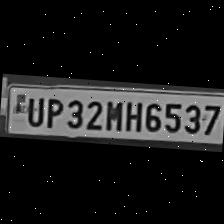2: (82, 94, 104, 129)
3: (180, 98, 202, 133), (62, 94, 84, 128)
5: (160, 96, 182, 132)
6: (140, 96, 162, 131)
7: (199, 100, 221, 134)
H: (121, 96, 143, 132)
M: (102, 95, 124, 131)
P: (42, 92, 64, 128)
U: (22, 92, 44, 125)
